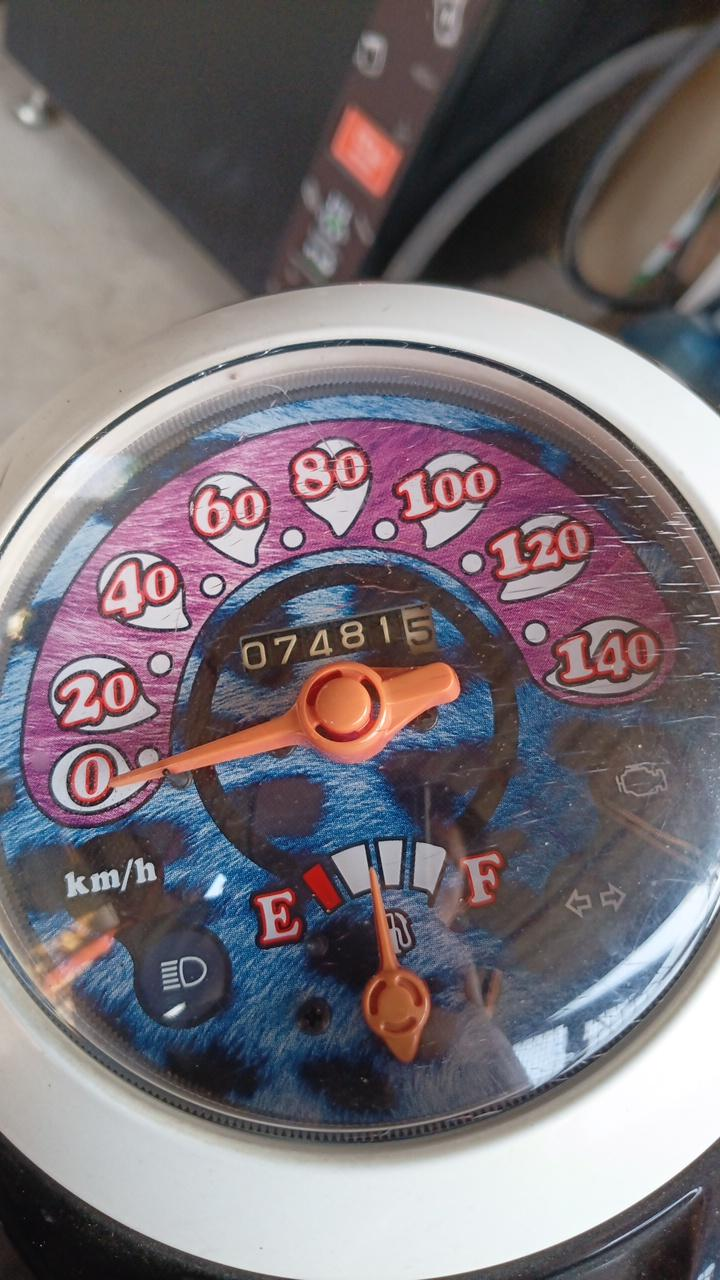0: (242, 640, 267, 671)
1: (379, 614, 391, 645)
4: (307, 629, 334, 660)
5: (406, 613, 434, 647)
7: (273, 634, 299, 666)
8: (339, 620, 365, 650)
odometer: (237, 599, 440, 682)
